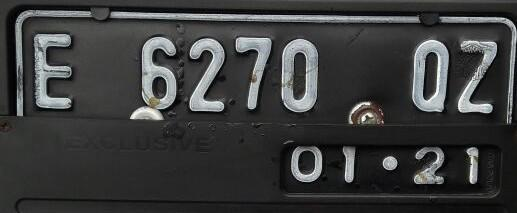clone-license-plate: (12, 4, 515, 197)
